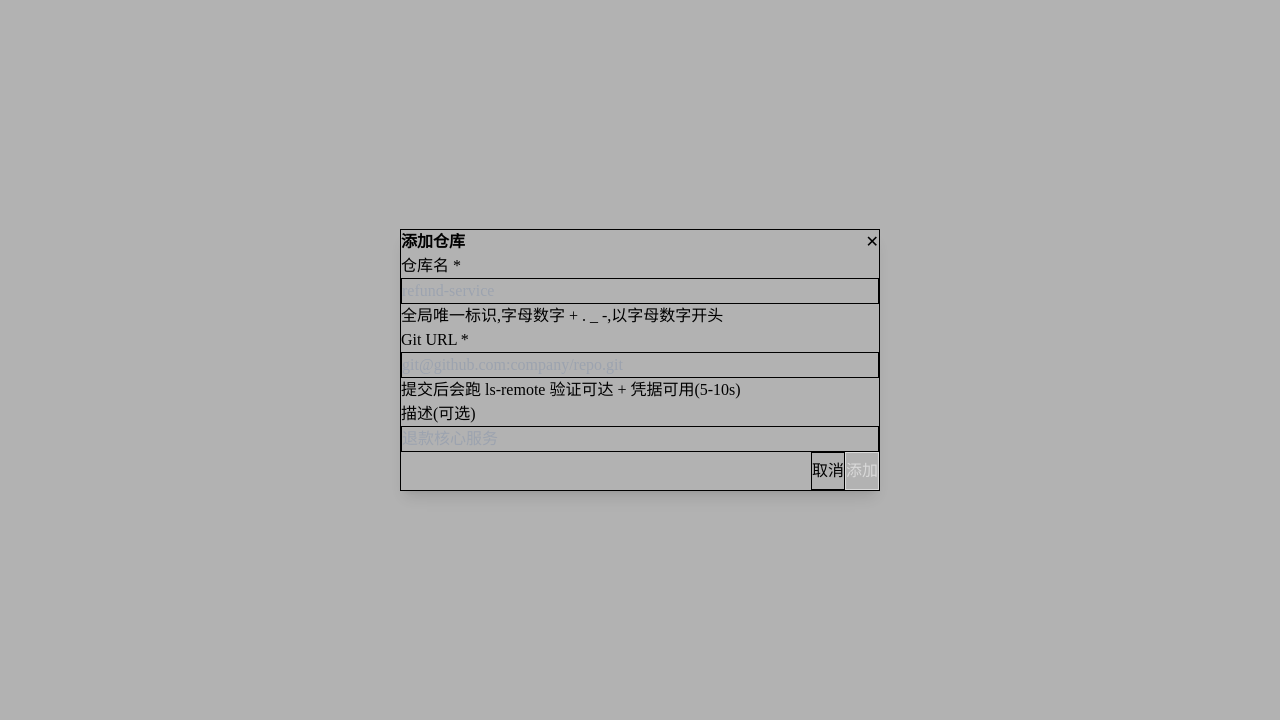
AddRepoModal · 提交 › 提交期间 → 文案「正在验证可达…」+ 按钮 disabled(ls-remote 5-10s loading)
In the field with test id "add-repo-name": (640, 291) [401,278,879,304], type "a"
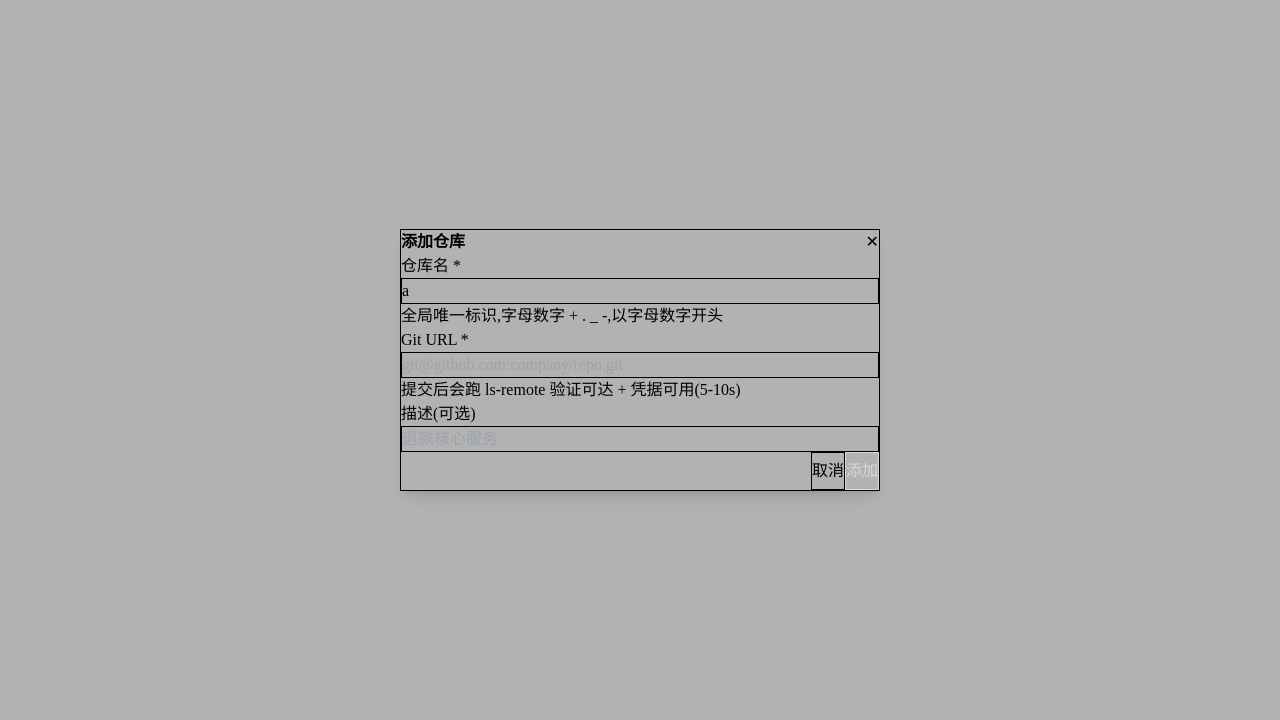
In the field with test id "add-repo-giturl": (640, 365) [401,352,879,378], type "git@b"
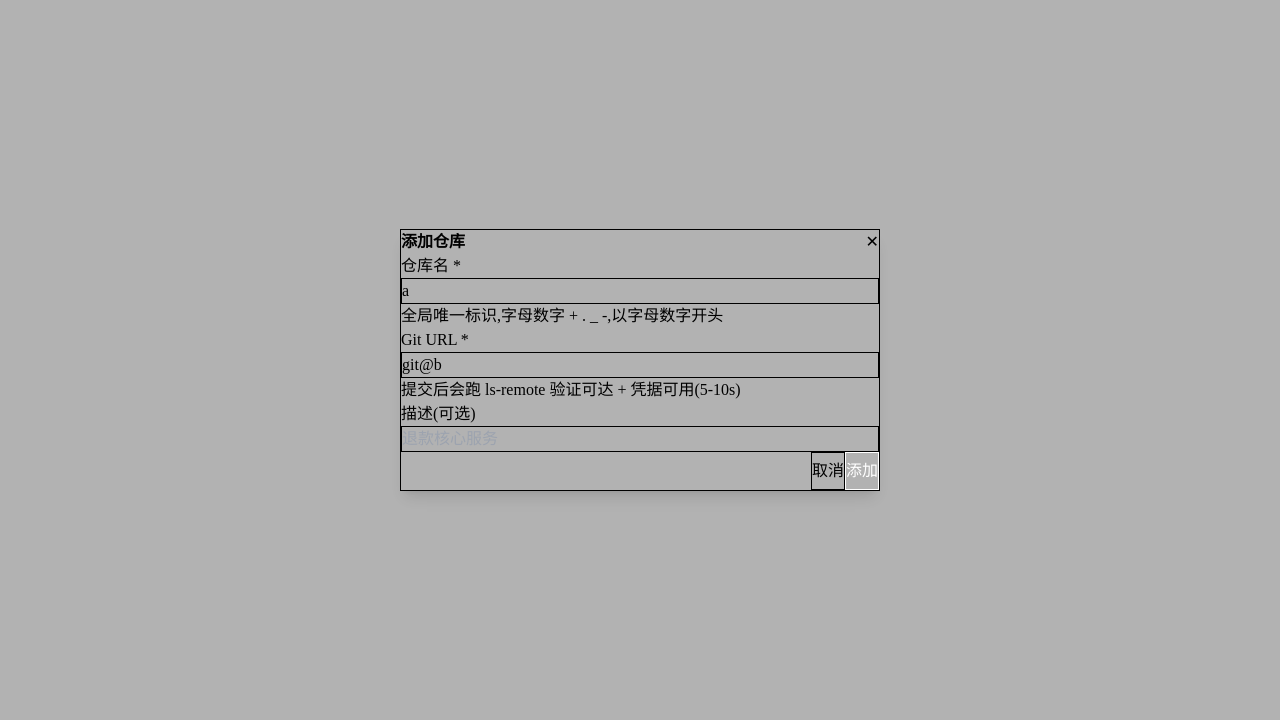
Click the button with test id "add-repo-submit": (862, 471) [845,452,879,490]
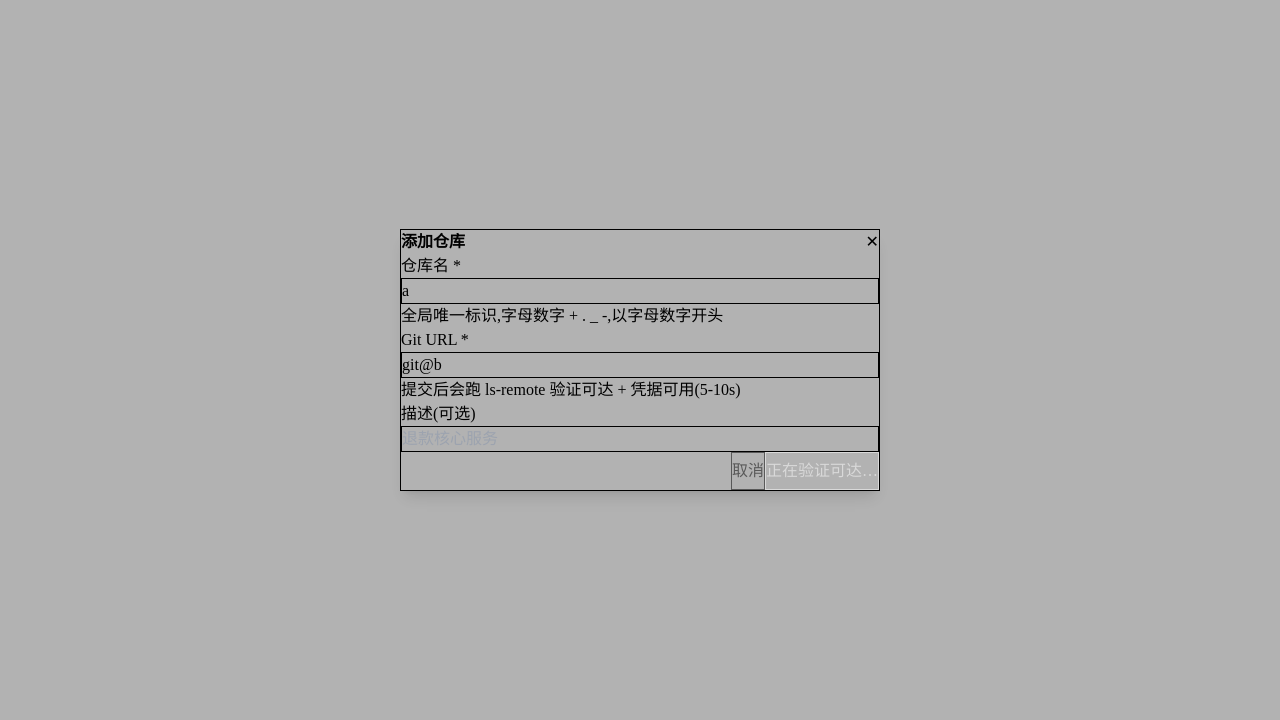
Check: the button with test id "add-repo-submit" is disabled, box [765,452,879,490]
Check: the button with test id "add-repo-submit" shows "正在验证可达", box [765,452,879,490]
